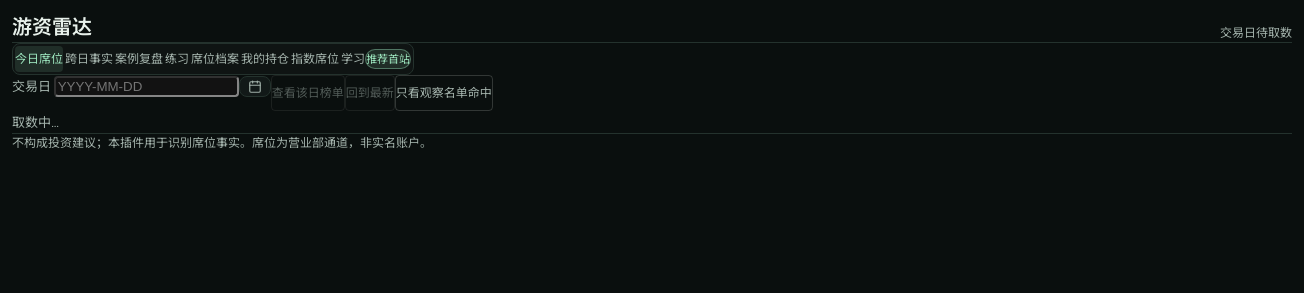
Test: YouziPage · 练习（Y4-03/Y4-04） › ★ Y4-03 降级（未生成结果）与「区间内没有」区分开
Click the button titled "用真实披露事实做识别与复盘练习" at (177,59), box [165,46,189,72]
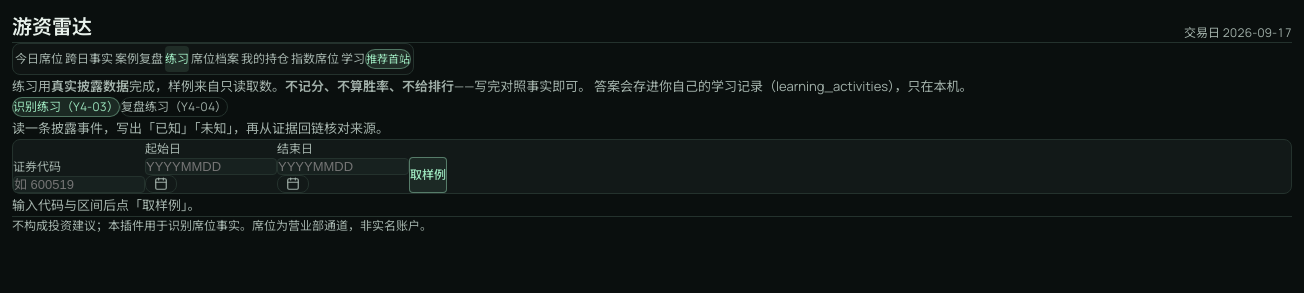
Result: the button "取样例" is shown at [409,157,447,193]
Type "600519" into the field with placeholder "如 600519" at (79,185), box [13,176,145,193]
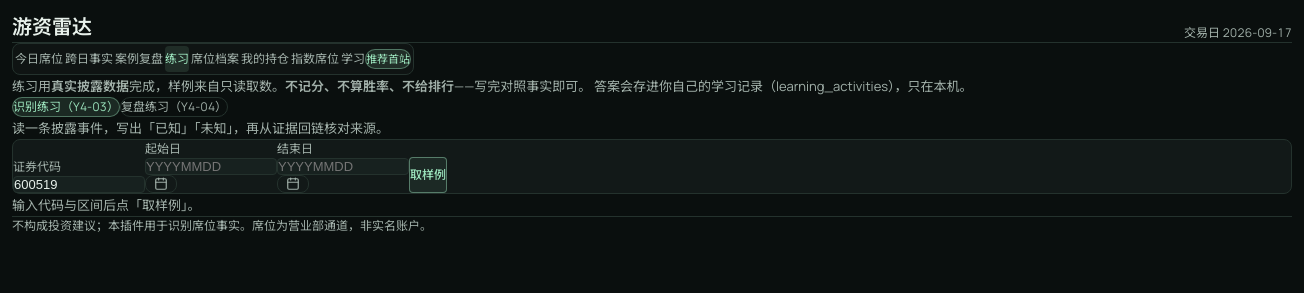
Type "20260907" into the field with placeholder "YYYYMMDD" at (211,167), box [145,158,277,175]
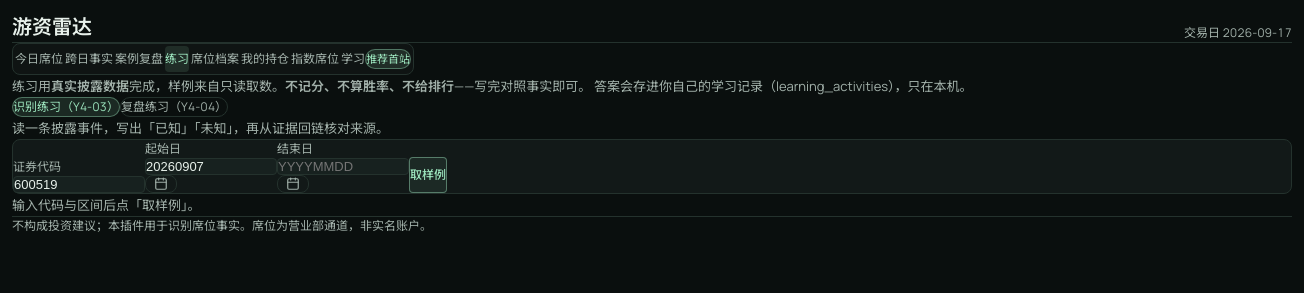
Type "20260917" into the field with placeholder "YYYYMMDD" at (343,167), box [277,158,409,175]
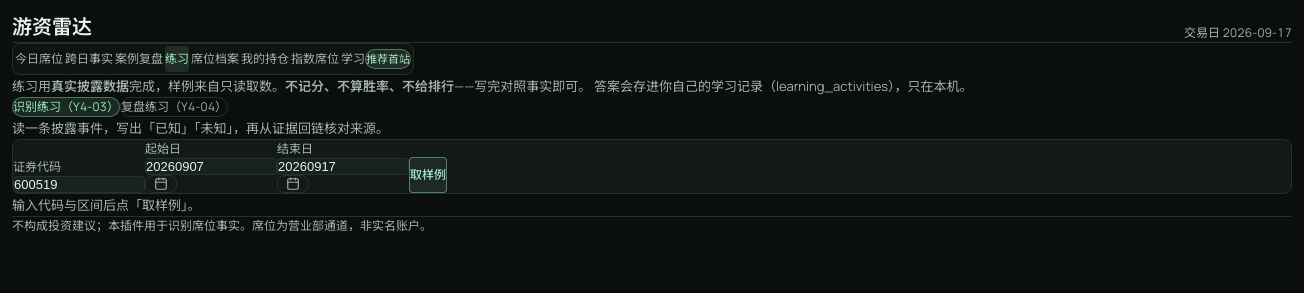
Click the button "取样例" at (428,175), box [409,157,447,193]
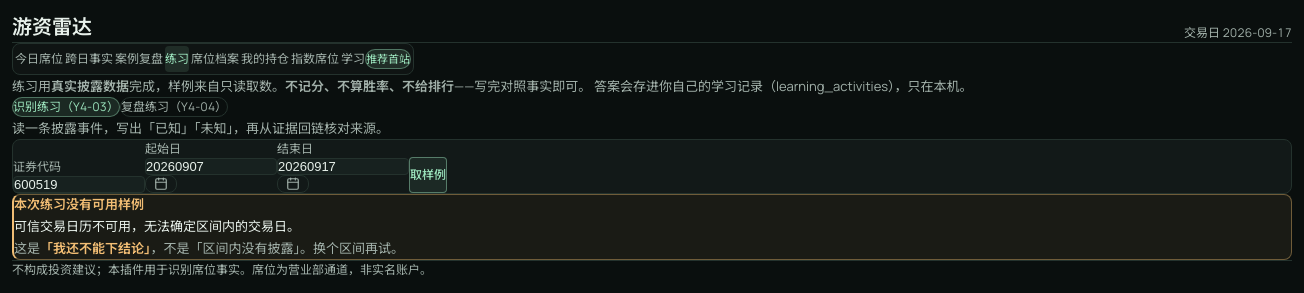
Result: the text "本次练习没有可用样例" is shown at [14,195,144,215]
Result: the text "这是「我还不能下结论」，不是「区间内没有披露」。换个区间再试。" is shown at [14,237,404,259]
